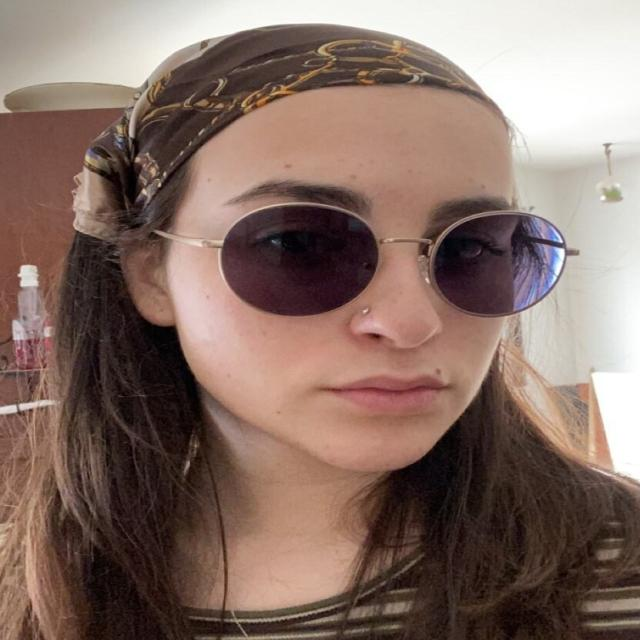2_gafas: (148, 201, 577, 319)
